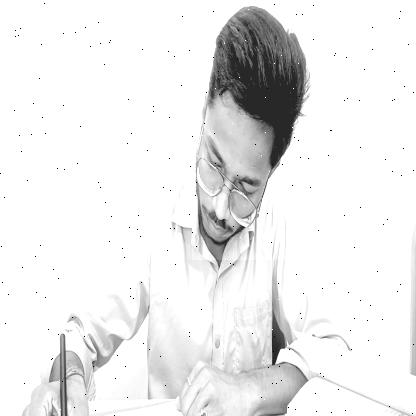Distracted: (192, 0, 307, 260)
